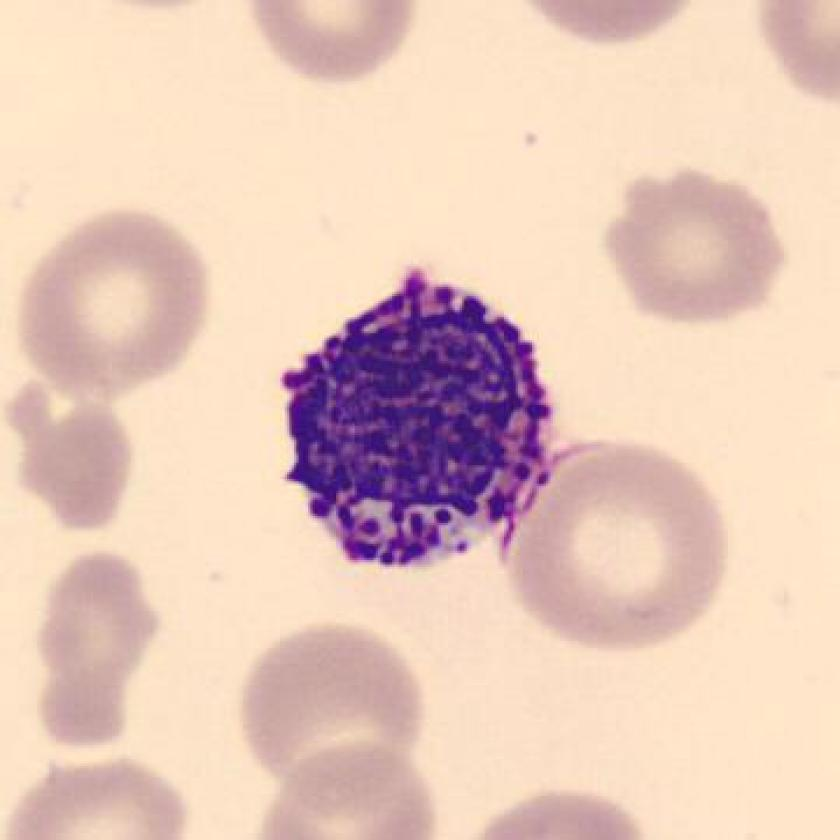basophil: (260, 258, 561, 572)
